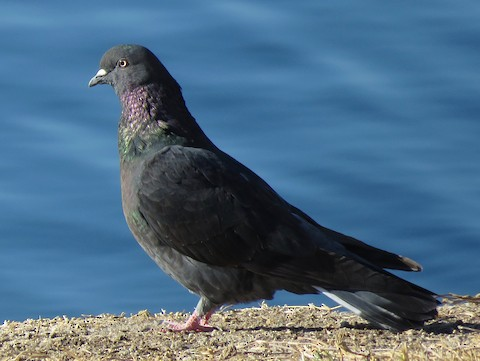pigeon: (83, 40, 448, 344)
